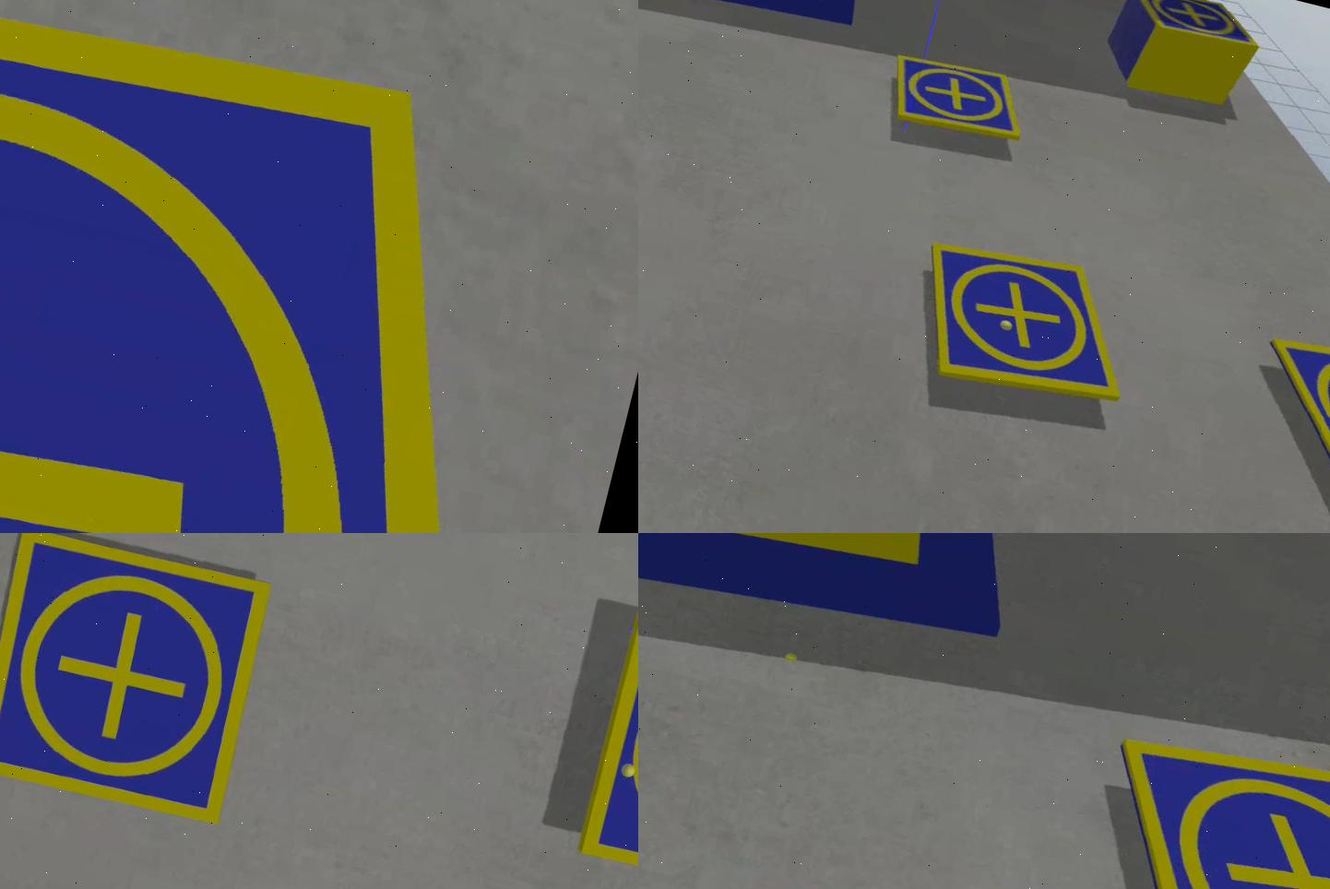large_base: (639, 534, 1045, 684), (639, 1, 875, 41)
small_base: (1, 1, 596, 534), (1, 534, 279, 832), (1057, 719, 1330, 889), (905, 231, 1148, 416), (1238, 318, 1330, 522), (884, 49, 1034, 150), (1122, 1, 1270, 56)
